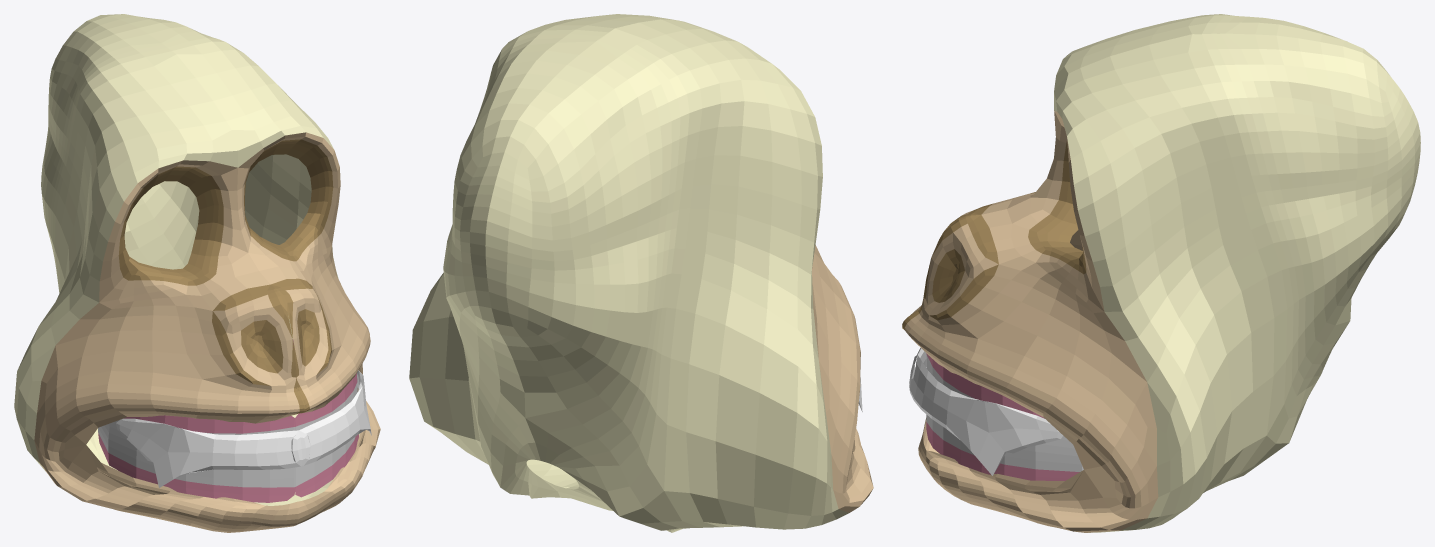
3 views of the same model, side by side, from view 1: azimuth 30°, elevation 25°; view 2: azimuth 150°, elevation 25°; view 3: azimuth 270°, elevation 25° (orthographic). The views are drawn at different scales.
Parts seen in each view (by area): view 1: head_grin; view 2: head_grin; view 3: head_grin.
Boxes of the visible parts, x1,y1,x2,y2 form: head_grin: (14,14,380,532); head_grin: (409,14,873,532); head_grin: (902,14,1420,532).
Bounding box in the file's own units: 1.1 × 1.3 × 1.35.
